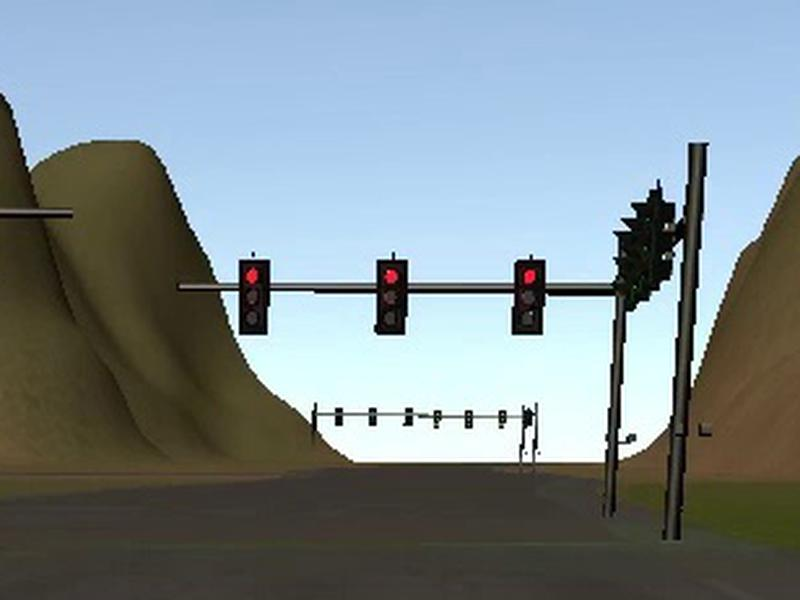Red: (375, 260, 409, 332), (239, 259, 271, 334), (513, 259, 544, 335)
